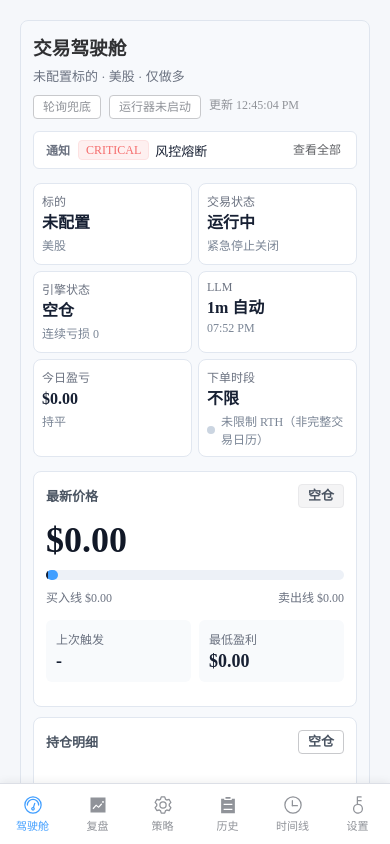
Mobile smoke tests › Bottom nav can switch to Strategy page
Click the link "策略": (163, 814) x1=152 y1=795 x2=174 y2=832
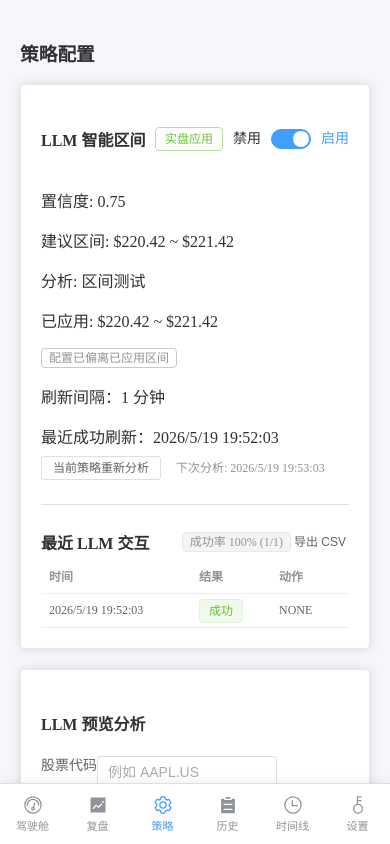
Now the heading "策略配置" is shown, box x1=20 y1=44 x2=95 y2=65
